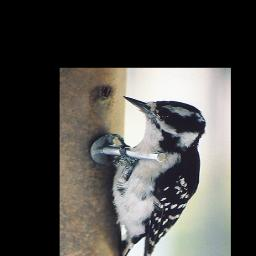Woodpecker: (106, 96, 207, 256)
